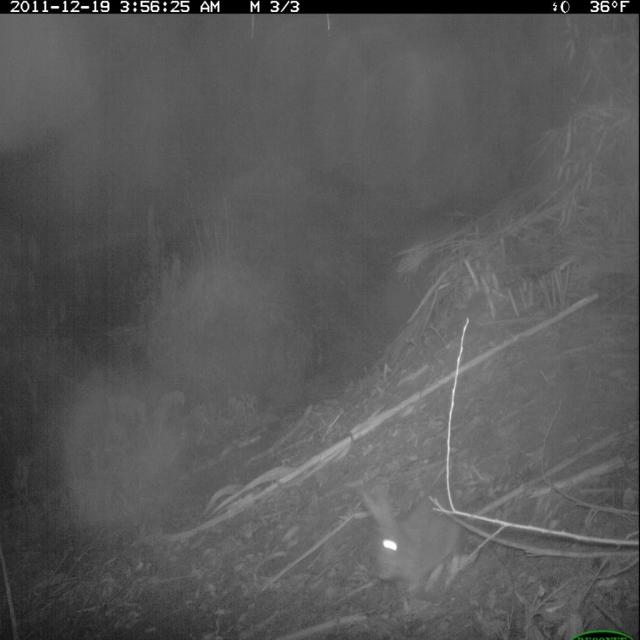rabbit: (362, 470, 473, 608)
